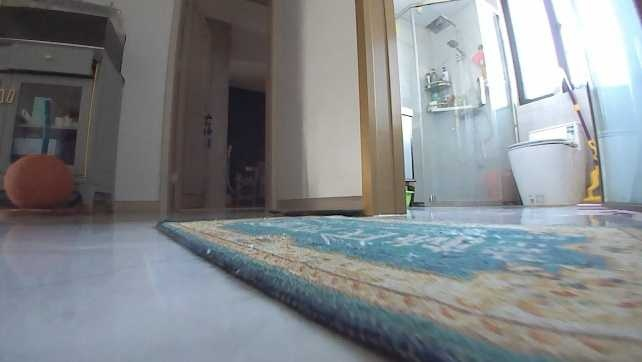blanket: (150, 211, 641, 360)
door_anno: (163, 5, 214, 210)
toilet: (503, 121, 588, 207)
